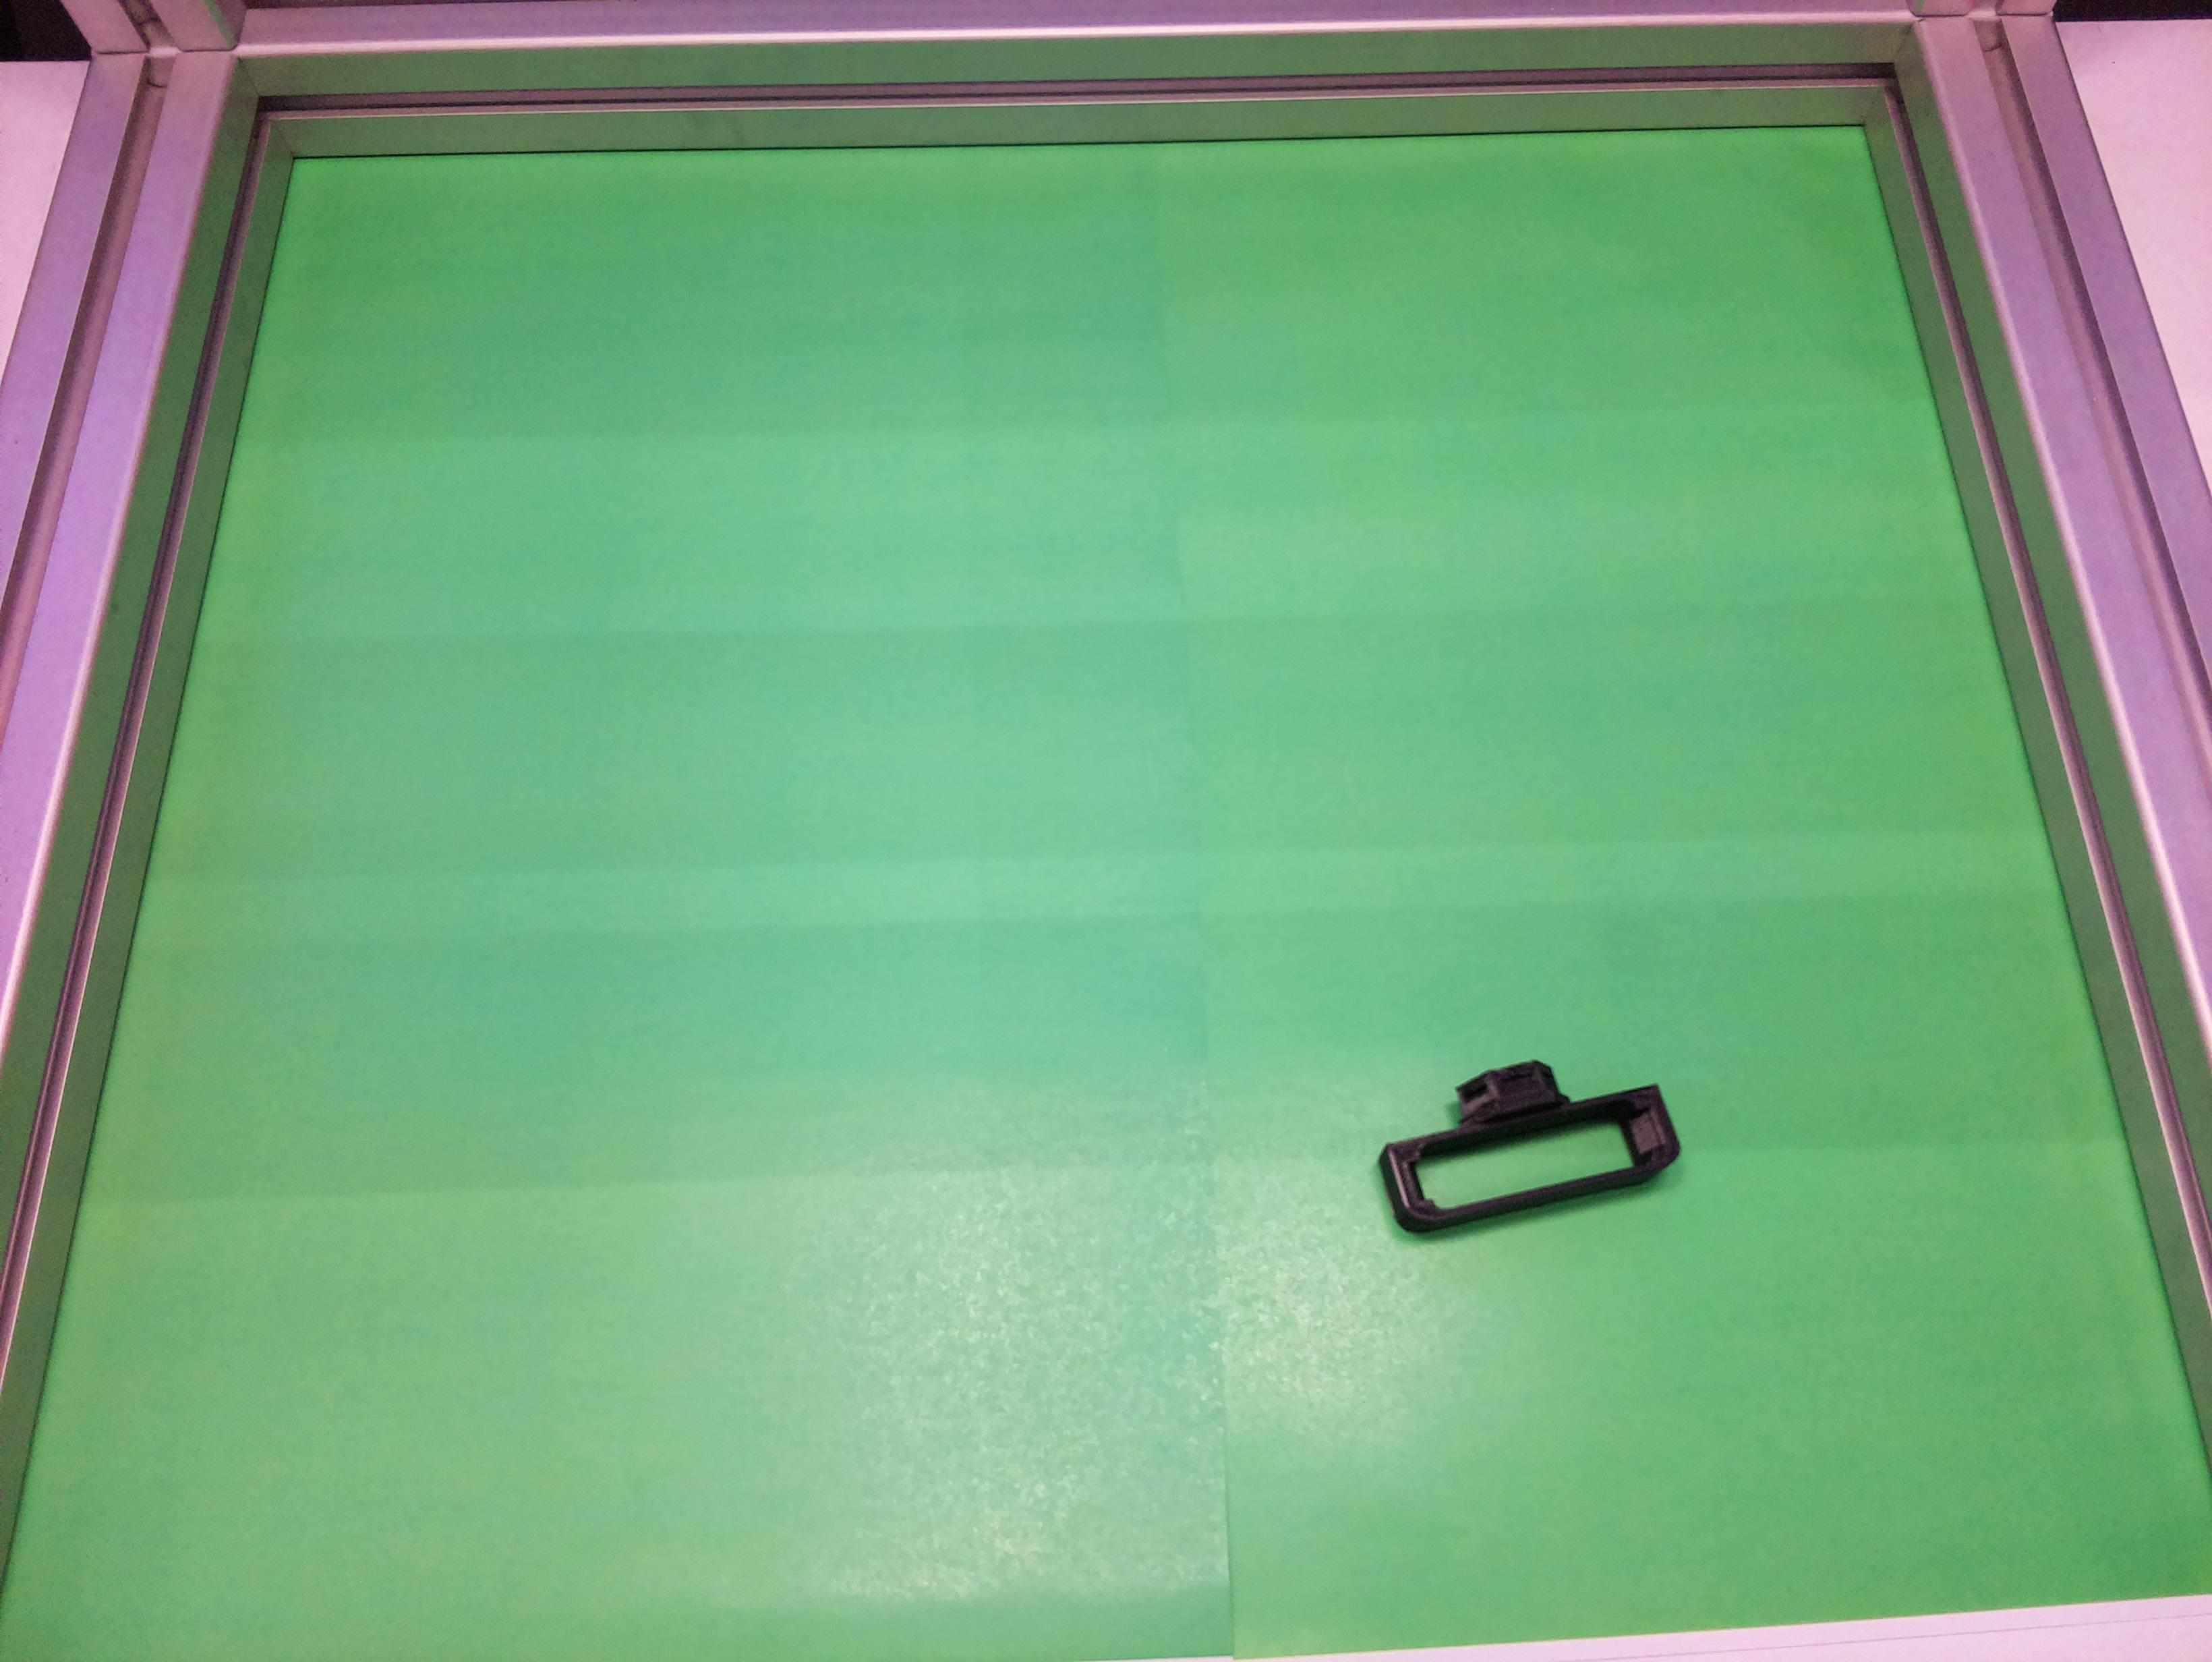cutter_holder: (1365, 1032, 1686, 1240)
